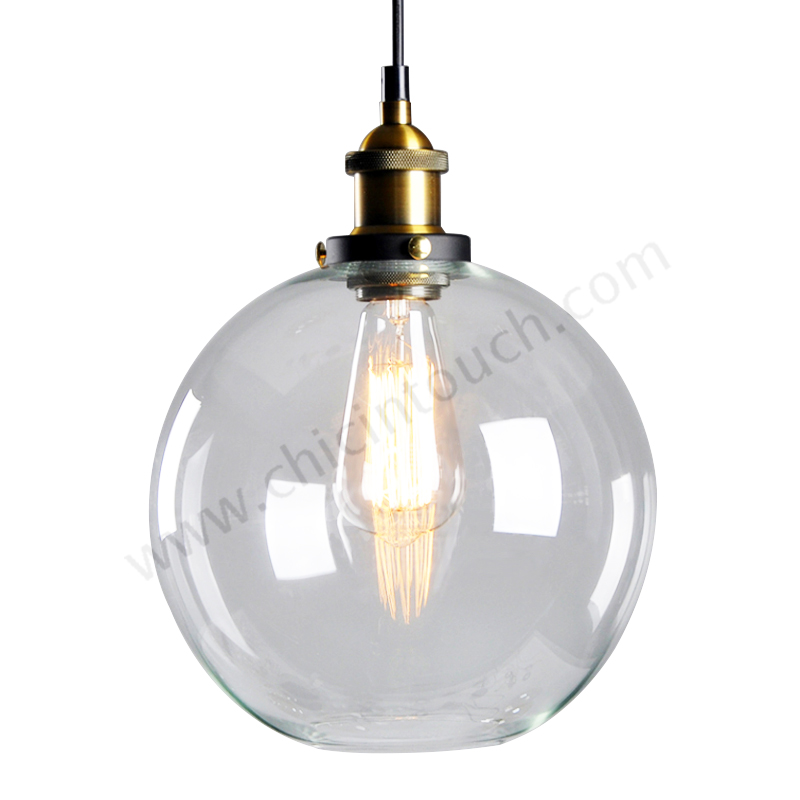Light_bulb: (126, 247, 683, 767)
